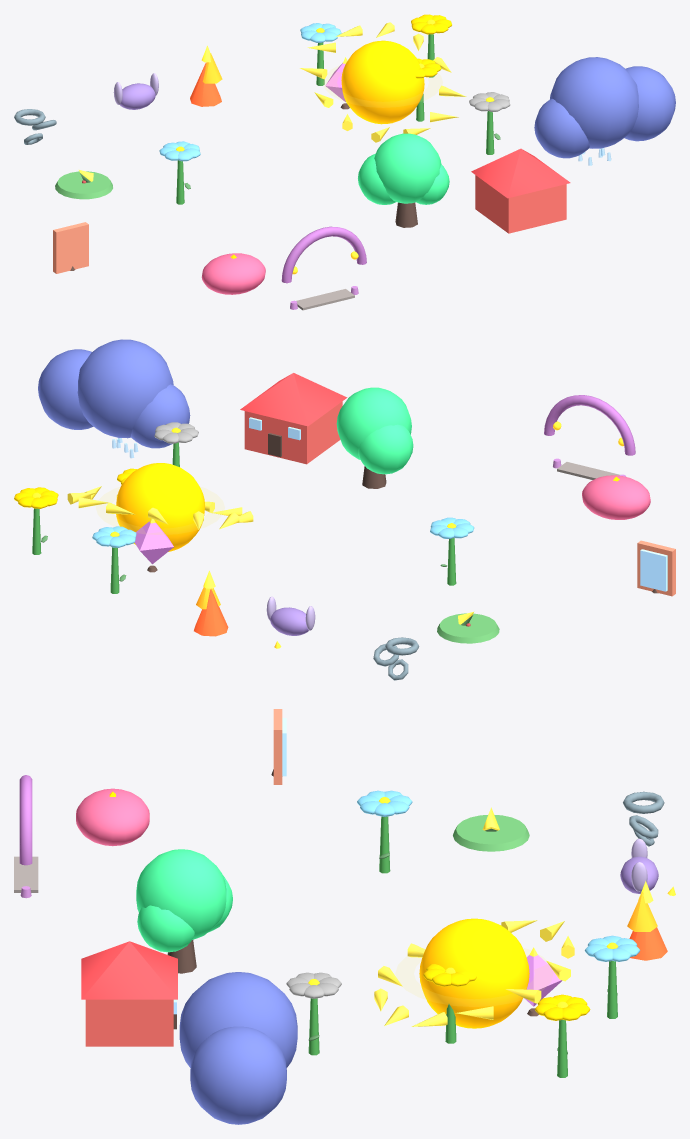
File: 情绪花园_沙盘场景.glb
3 views of the same model, one above another, from view 1: azimuth 30°, elevation 25°; view 2: azimuth 150°, elevation 25°; view 3: azimuth 270°, elevation 25° (orthographic). The views are drawn at different scales.
Size of what is drawn, in the model's own units: 8.31 by 1.33 by 6.01.
